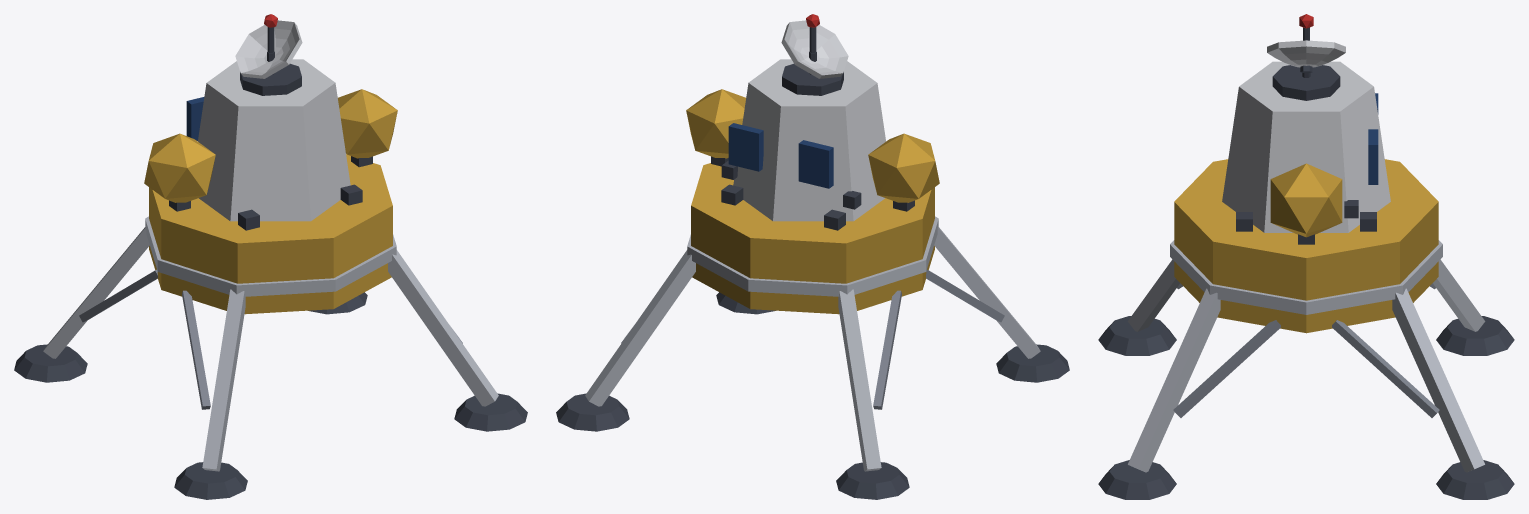
Rendered from Decor_LaunchPad_Lander.fbx.
3 views of the same model, side by side, from view 1: azimuth 30°, elevation 25°; view 2: azimuth 150°, elevation 25°; view 3: azimuth 270°, elevation 25° (orthographic). The views are drawn at different scales.
Parts seen in each view (by area): view 1: Lander_Body; view 2: Lander_Body; view 3: Lander_Body.
Part boxes in pixels (x1,y1,x2,y2): Lander_Body: (14, 14, 527, 499); Lander_Body: (556, 14, 1069, 499); Lander_Body: (1098, 14, 1514, 499).
Size of the model in its own units: 14.8 by 15.6 by 14.8.
